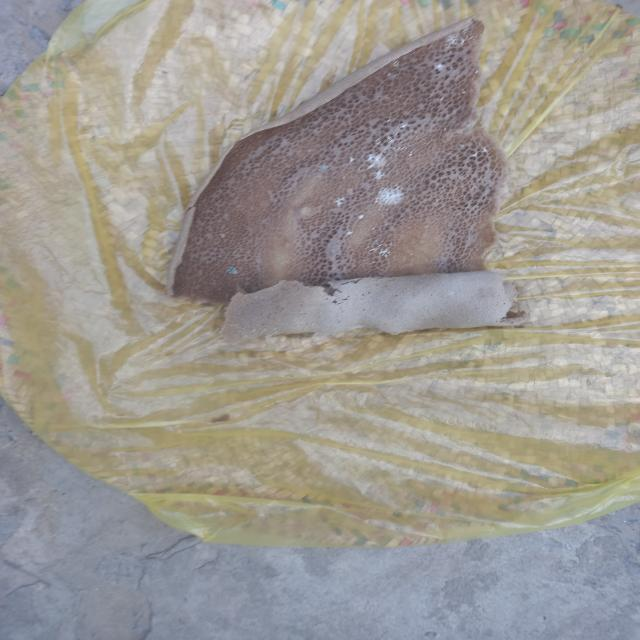injera_mold: (378, 184, 411, 213), (367, 241, 395, 261), (371, 152, 392, 168), (223, 263, 246, 277), (376, 138, 400, 151), (444, 34, 466, 45), (334, 195, 350, 207), (316, 160, 329, 174), (395, 120, 410, 132), (344, 154, 360, 165), (372, 171, 390, 179), (433, 62, 446, 72), (218, 231, 230, 240), (356, 212, 366, 220), (392, 60, 402, 68), (344, 228, 354, 236), (436, 95, 447, 102), (461, 27, 472, 33), (392, 74, 403, 80), (471, 150, 479, 158), (460, 88, 468, 96), (385, 117, 395, 123), (473, 67, 479, 77), (261, 328, 267, 336), (272, 327, 278, 334), (446, 50, 456, 54), (483, 147, 488, 154), (383, 222, 389, 227), (439, 261, 446, 265), (408, 252, 414, 256), (370, 227, 377, 230), (404, 146, 409, 150), (408, 152, 413, 156), (443, 127, 447, 132), (387, 72, 392, 76), (448, 291, 453, 295), (254, 296, 259, 300), (331, 249, 337, 252), (240, 326, 245, 329), (252, 328, 257, 331), (286, 322, 289, 326), (300, 310, 302, 315), (312, 322, 314, 326), (348, 249, 352, 251)
